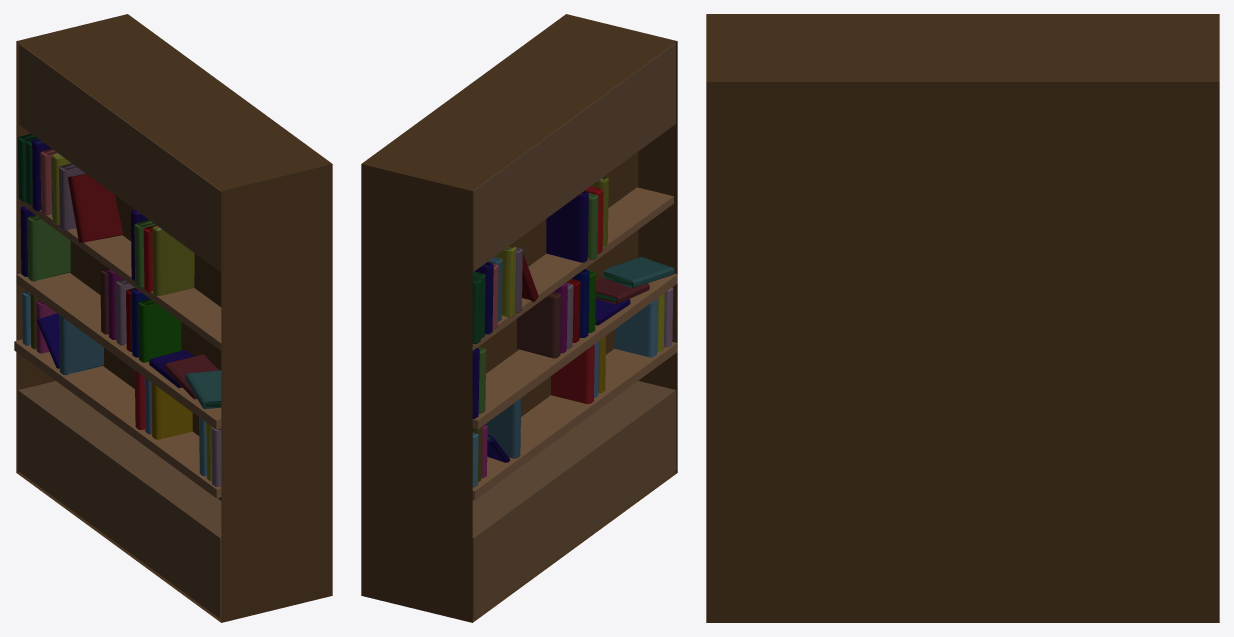
File: bookshelf.fbx
3 renders of one model, left to right at view 1: azimuth 30°, elevation 25°; view 2: azimuth 150°, elevation 25°; view 3: azimuth 270°, elevation 25°, orthographic. The views are drawn at different scales.
Parts seen in each view (by area): view 1: Cube, Cube.001, Cube.002, Cube.005, Cube.004, Cube.003, Cube.015, Cube.021, Cube.014, Cube.030, Cube.039, Cube.025 (+22 smaller); view 2: Cube, Cube.001, Cube.002, Cube.005, Cube.004, Cube.003, Cube.022, Cube.032, Cube.026, Cube.035, Cube.038, Cube.039 (+17 smaller); view 3: Cube.
Boxes of the visible parts, x1,y1,x2,y2 form: Cube: [16, 14, 332, 622]; Cube.001: [18, 381, 221, 618]; Cube.002: [19, 44, 221, 272]; Cube.005: [14, 339, 221, 498]; Cube.004: [16, 272, 221, 429]; Cube.003: [20, 200, 221, 350]; Cube.015: [68, 173, 123, 242]; Cube.021: [152, 226, 194, 295]; Cube.014: [27, 215, 70, 281]; Cube.030: [138, 299, 181, 362]; Cube.039: [59, 315, 103, 375]; Cube.025: [151, 382, 192, 439]; Cube: [361, 14, 677, 622]; Cube.001: [472, 381, 676, 618]; Cube.002: [472, 43, 675, 271]; Cube.005: [472, 342, 677, 499]; Cube.004: [472, 273, 677, 429]; Cube.003: [472, 187, 673, 350]; Cube.022: [546, 191, 588, 262]; Cube.032: [517, 292, 560, 358]; Cube.026: [551, 344, 594, 404]; Cube.035: [614, 298, 657, 357]; Cube.038: [603, 256, 674, 288]; Cube.039: [484, 398, 521, 458]; Cube: [706, 14, 1219, 622].
Size of the model in its own units: 214 by 741 by 637.
